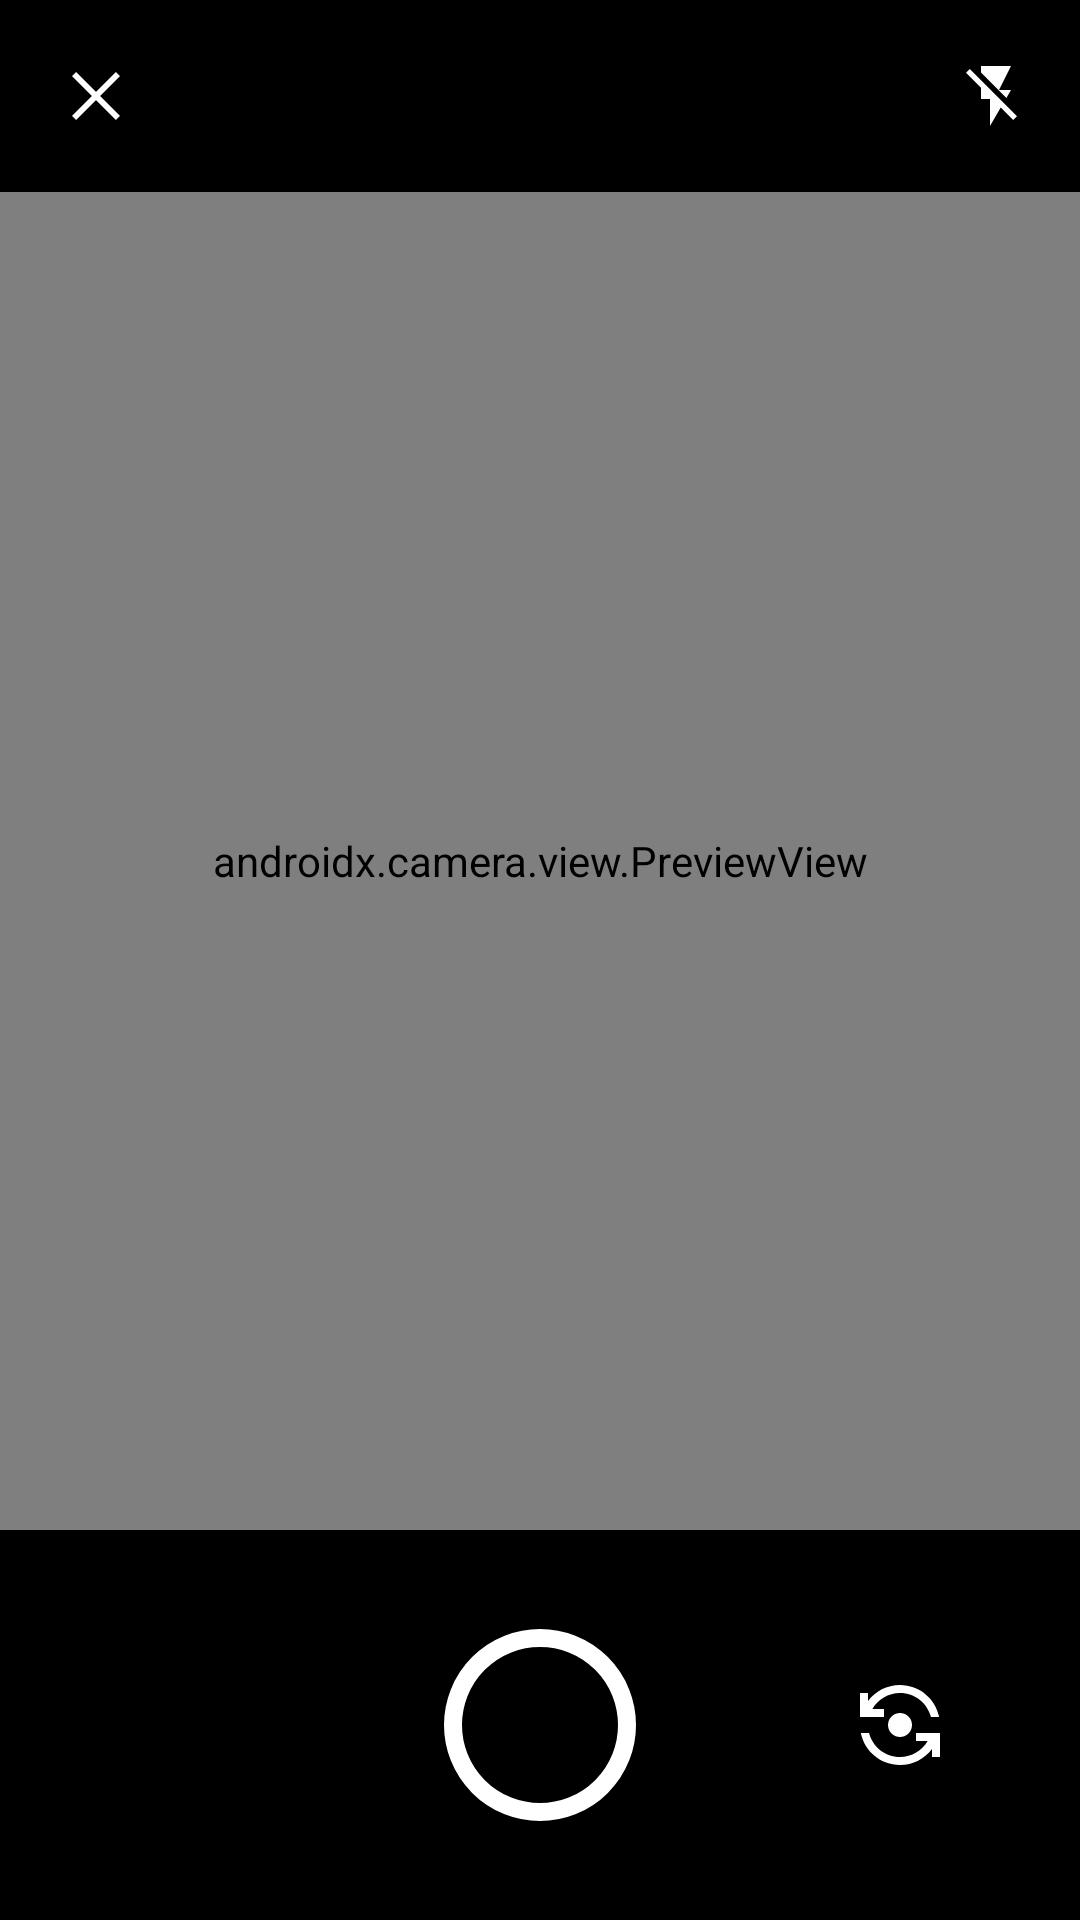

Screen size 1080 × 1920. Icon name, then its center in pixels as [x,y]:
capture: [540,1725]
flash off: [991,96]
flip camera: [900,1725]
